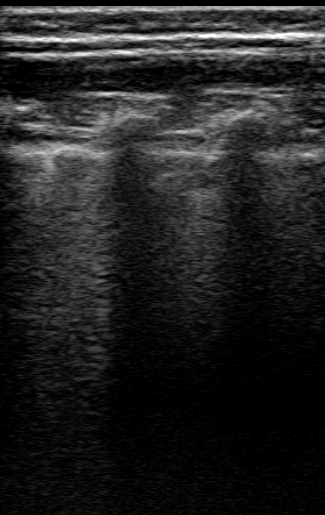irrelevant: (1, 1, 325, 55)
